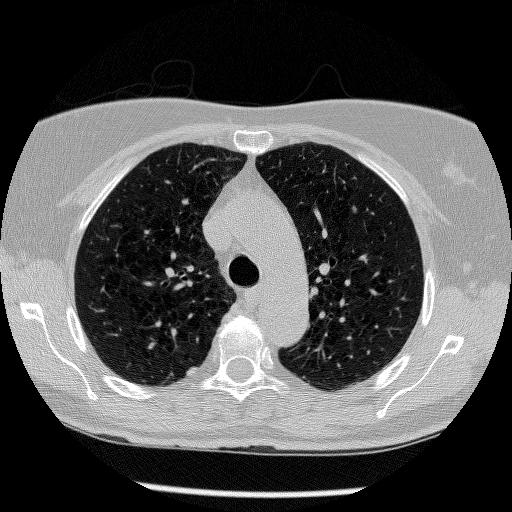nodule: (184, 363, 199, 378)
